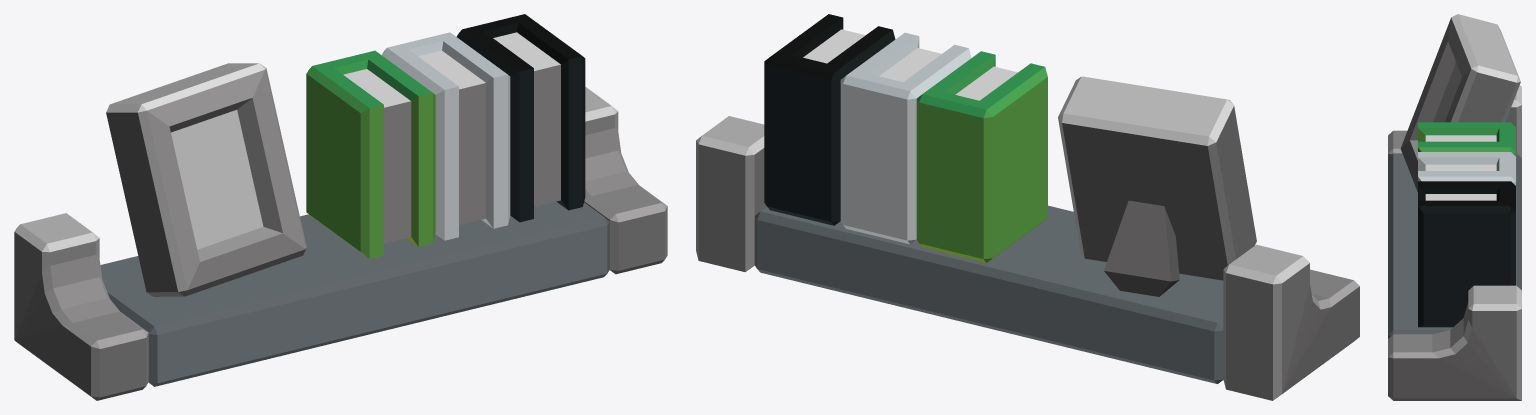
File: kk_shelf_B_large_decorated.obj
3 views of the same model, side by side, from view 1: azimuth 30°, elevation 25°; view 2: azimuth 150°, elevation 25°; view 3: azimuth 270°, elevation 25° (orthographic). The views are drawn at different scales.
Bounding box in the file's own units: 2 × 0.8175 × 0.5.
